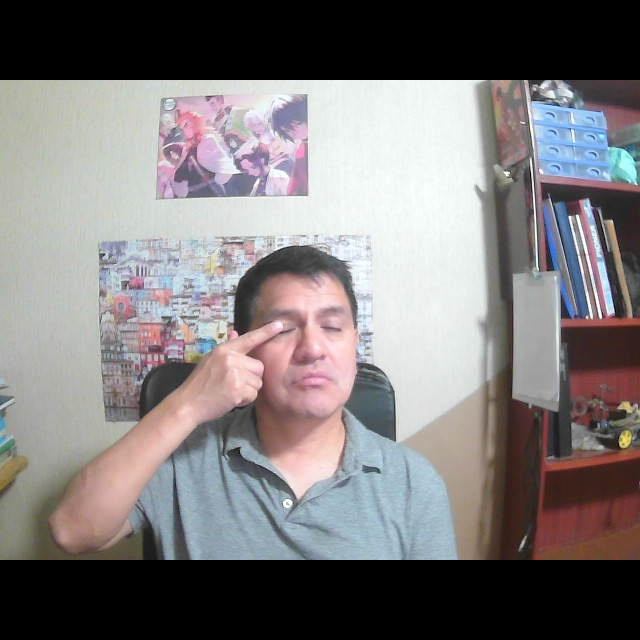cesar: (210, 233, 382, 444)
